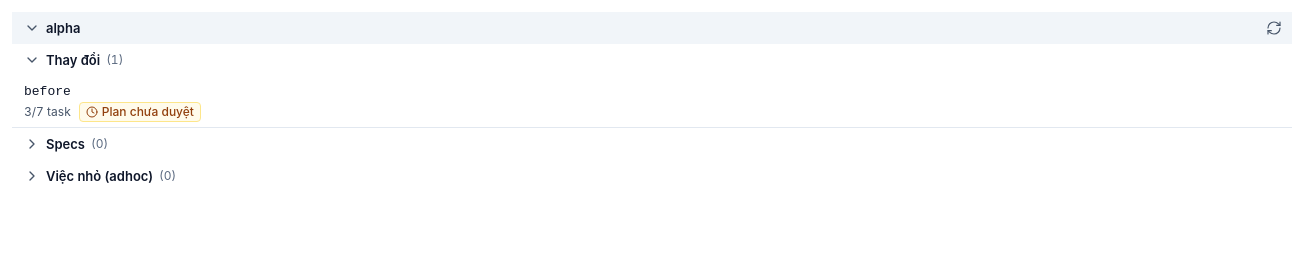
Test: <PlanTree /> › refresh › UC-003/AC-2 a change created after the app was built shows on the next read
Expected: the text "before" is shown, [24, 84, 71, 98]
Expected: the text "created-later" is not shown
Click the button named "Đọc lại plan và spec". click: point(1274, 28)
box: [1260, 14, 1288, 42]
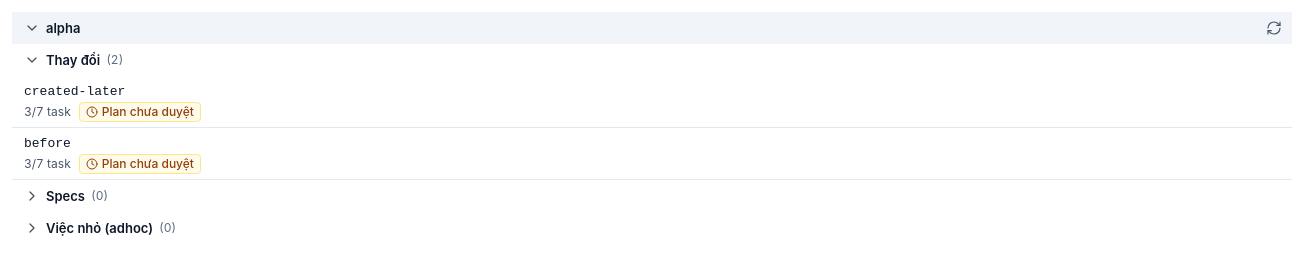
Now the text "created-later" is shown, box [24, 84, 125, 98]
